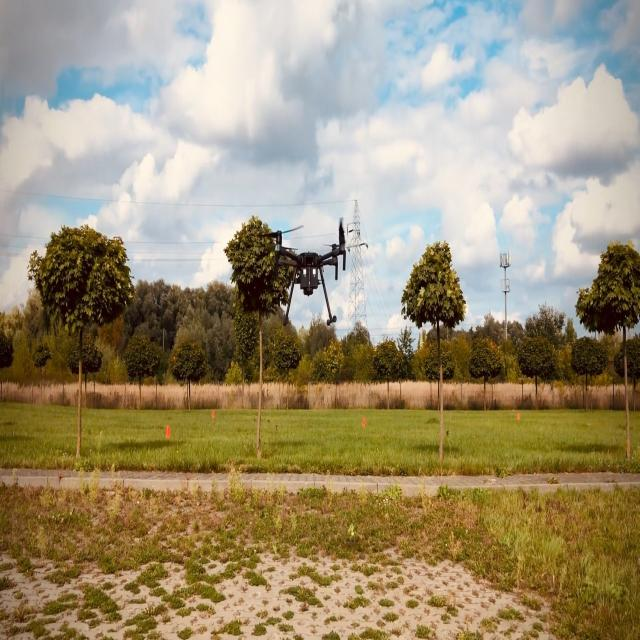drone: (258, 216, 348, 328)
